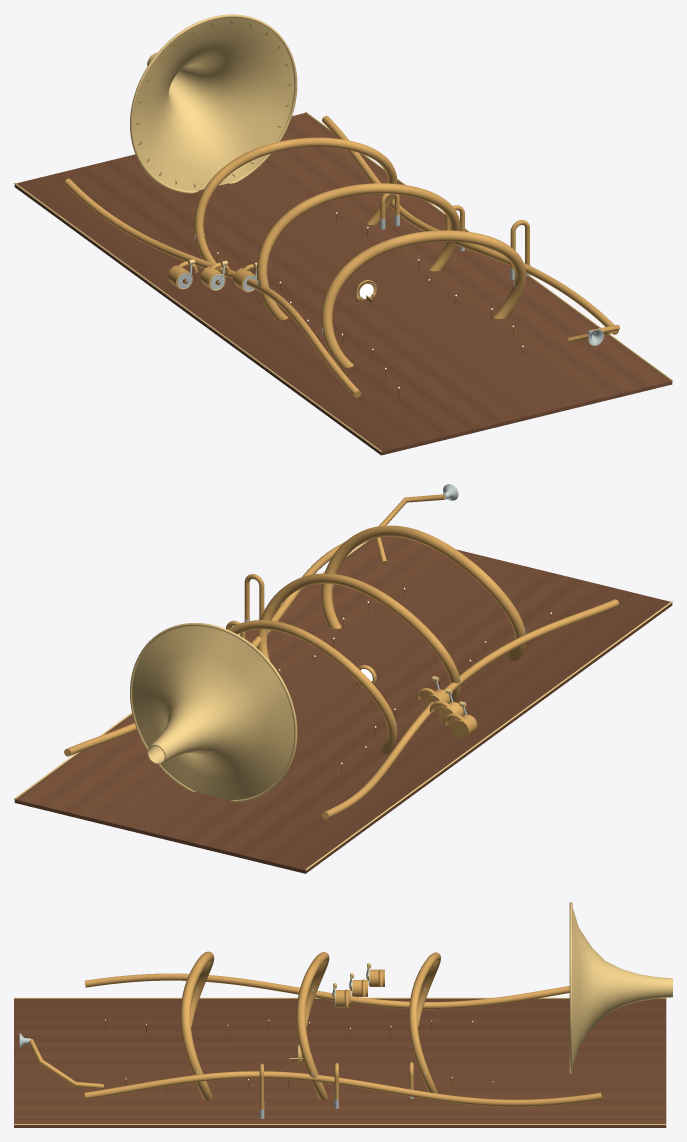
The model's file is mundo-corno.glb.
3 renders of one model, top to bottom at view 1: azimuth 30°, elevation 25°; view 2: azimuth 150°, elevation 25°; view 3: azimuth 270°, elevation 25°, orthographic. The views are drawn at different scales.
Parts seen in each view (by area): view 1: Tarima de la caja, Salón de latón, Níquel de mecanismos; view 2: Tarima de la caja, Salón de latón; view 3: Tarima de la caja, Salón de latón, Níquel de mecanismos.
Boxes of the visible parts, box(x1,y1,x2,y2) form: Tarima de la caja: box(14, 113, 672, 455); Salón de latón: box(14, 14, 672, 452); Níquel de mecanismos: box(177, 214, 603, 345); Tarima de la caja: box(14, 536, 672, 873); Salón de latón: box(14, 494, 672, 870); Tarima de la caja: box(14, 999, 666, 1127); Salón de latón: box(14, 902, 672, 1125); Níquel de mecanismos: box(19, 968, 425, 1118).
Bounding box in the file's own units: 89.77 × 60.76 × 194.
